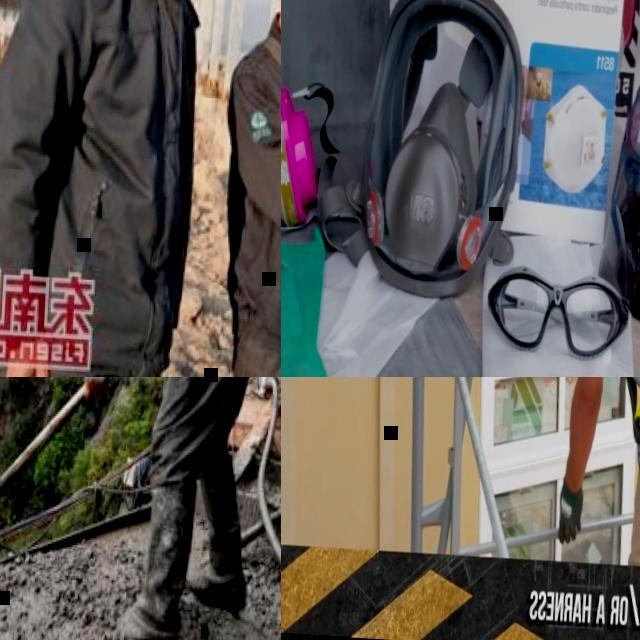Mask: (354, 0, 533, 299), (281, 34, 368, 256), (593, 159, 640, 329)
NO-Safety Vest: (30, 0, 198, 366), (226, 54, 281, 327)
Person: (0, 0, 236, 377), (49, 377, 281, 640), (211, 0, 281, 377), (533, 377, 640, 571)
